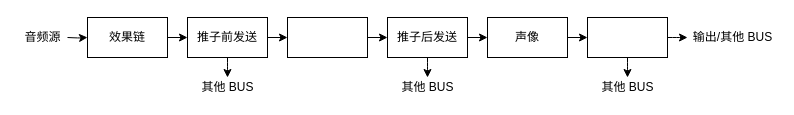
The diagram is 794 pixels wide and 115 high, and some of its shapes have lost their labels. Each missing label, with the box of its shape:
后声像发送: (586, 16, 668, 58)
音量: (286, 16, 368, 58)
